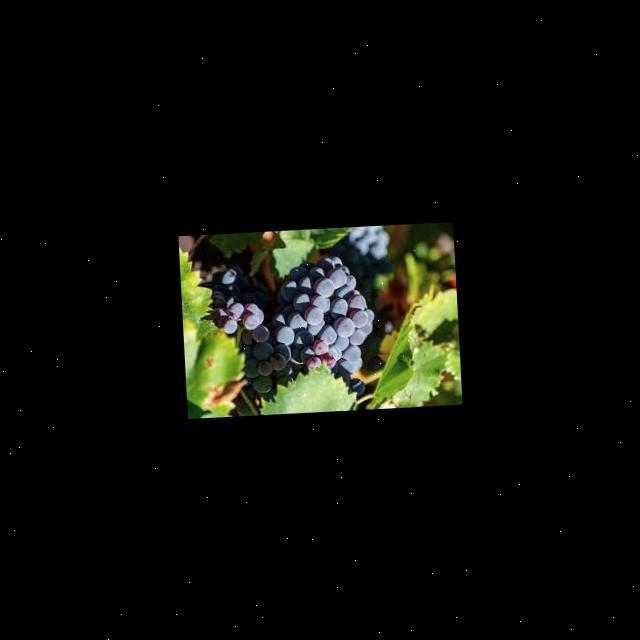grape: (200, 253, 380, 407)
